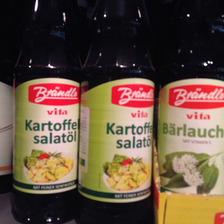oil: (79, 1, 157, 224), (12, 2, 79, 224), (158, 1, 223, 195)
